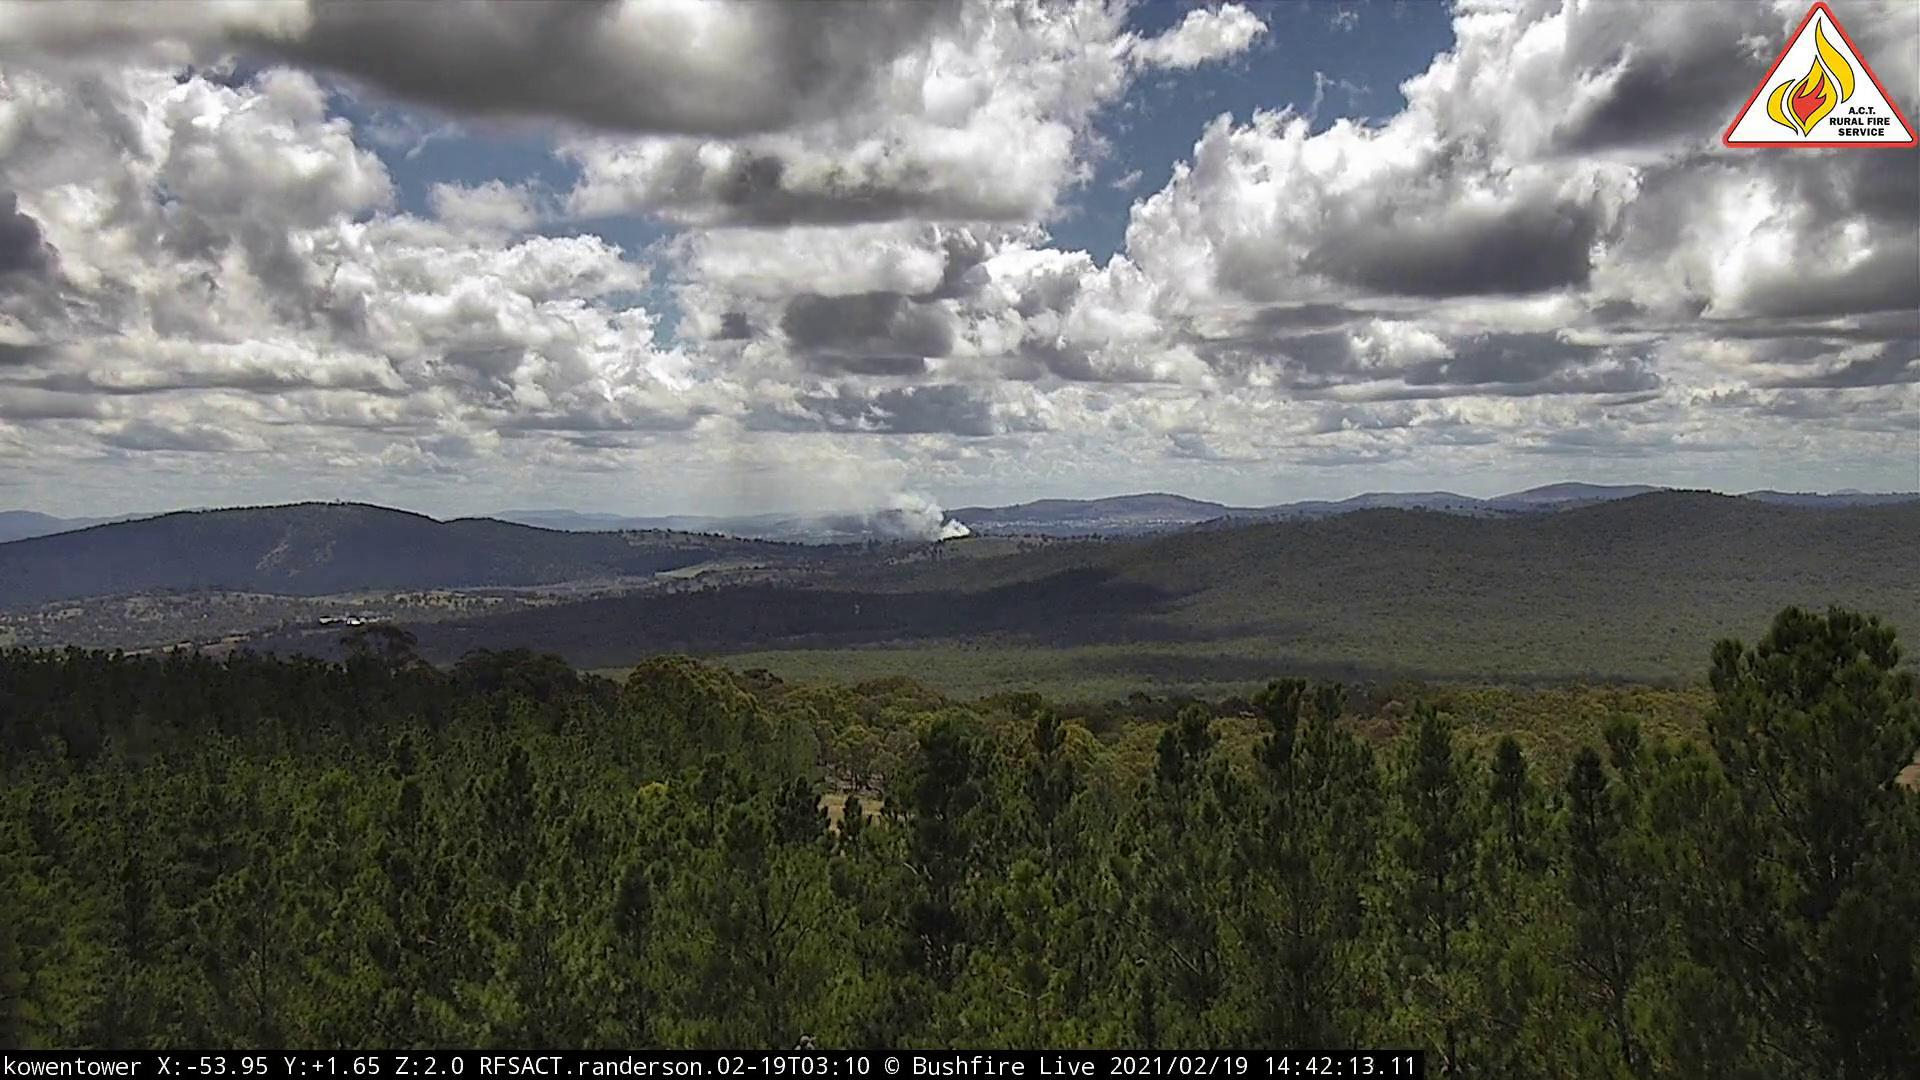Smoke: (688, 439, 975, 547)
